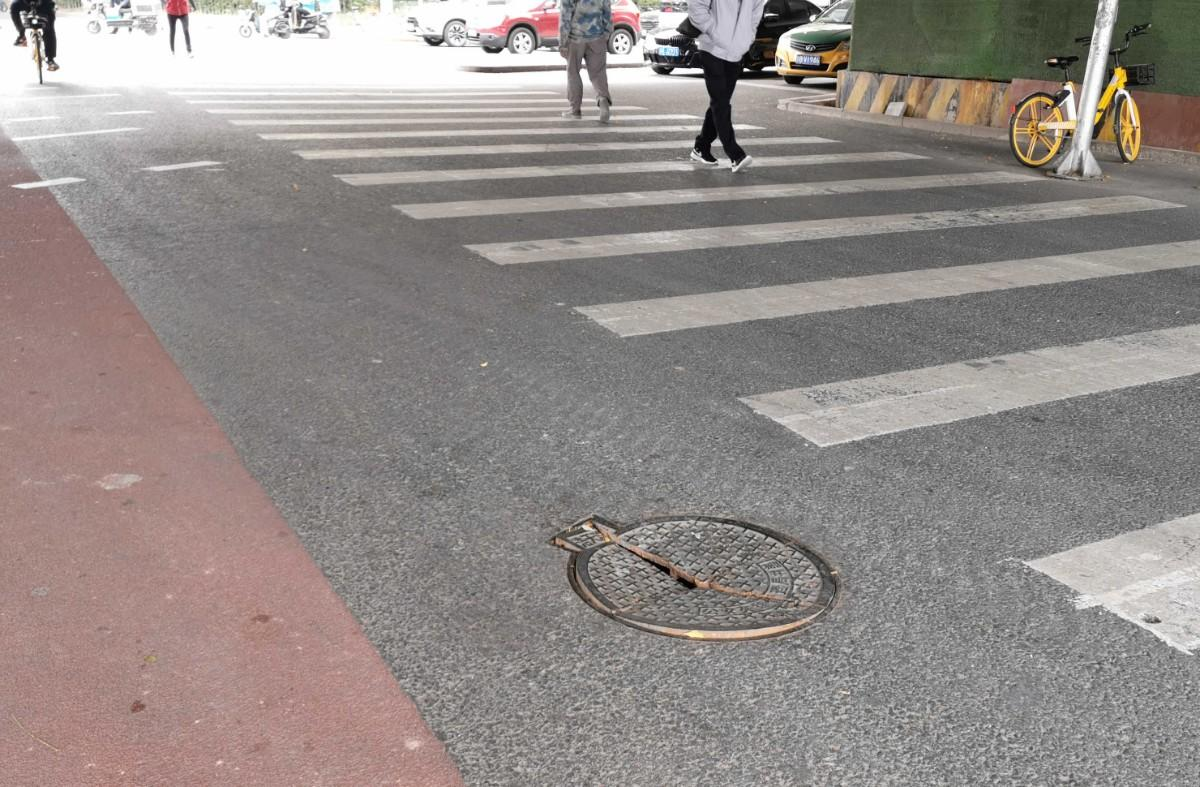wellcover: (533, 482, 874, 674)
